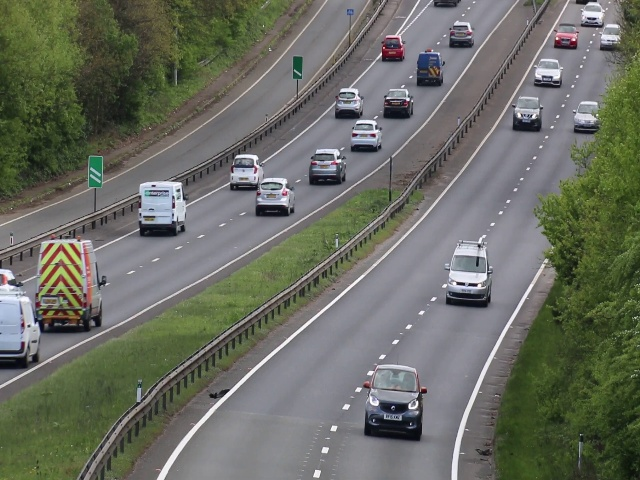car: (34, 243, 106, 331), (365, 360, 423, 443), (444, 236, 494, 307), (1, 293, 48, 365), (138, 181, 186, 236), (254, 175, 295, 220), (309, 142, 347, 187), (226, 154, 264, 189), (350, 116, 382, 154), (415, 49, 446, 88), (513, 93, 542, 131), (332, 87, 367, 118), (381, 88, 415, 118), (532, 56, 563, 88), (447, 18, 475, 48), (380, 30, 406, 60), (574, 96, 594, 131), (553, 23, 579, 49), (580, 5, 604, 26), (600, 25, 618, 48)
